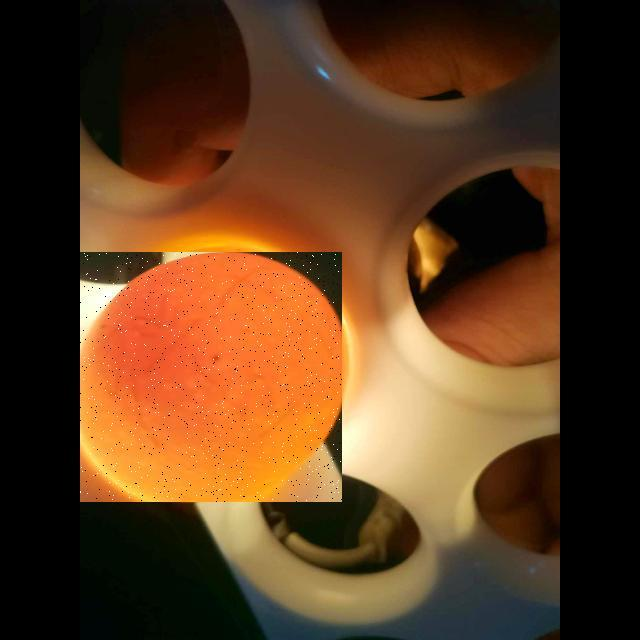Infertile: (80, 252, 342, 502)
